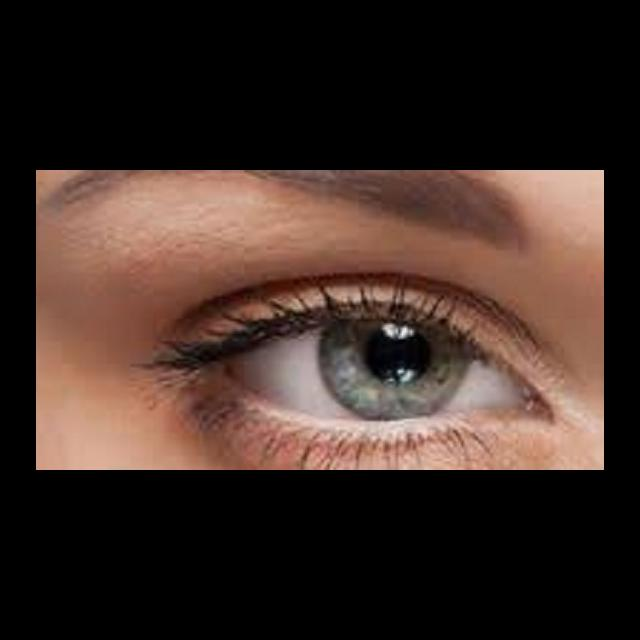eye: (235, 319, 526, 430)
iris: (321, 324, 468, 424)
